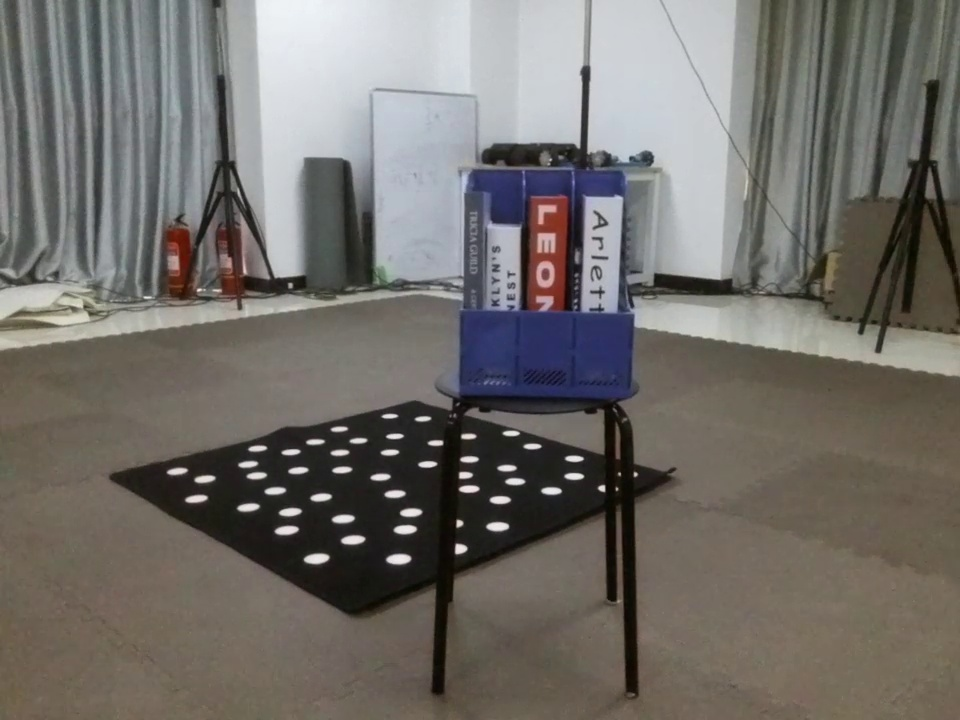files: (447, 148, 641, 429)
